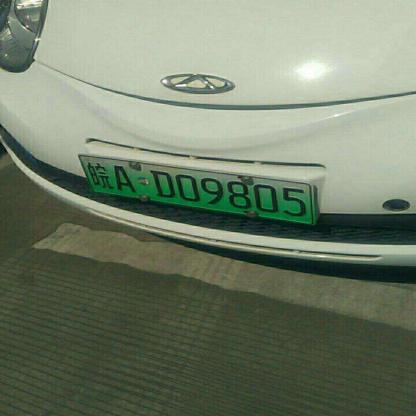lp: (81, 156, 311, 224)
